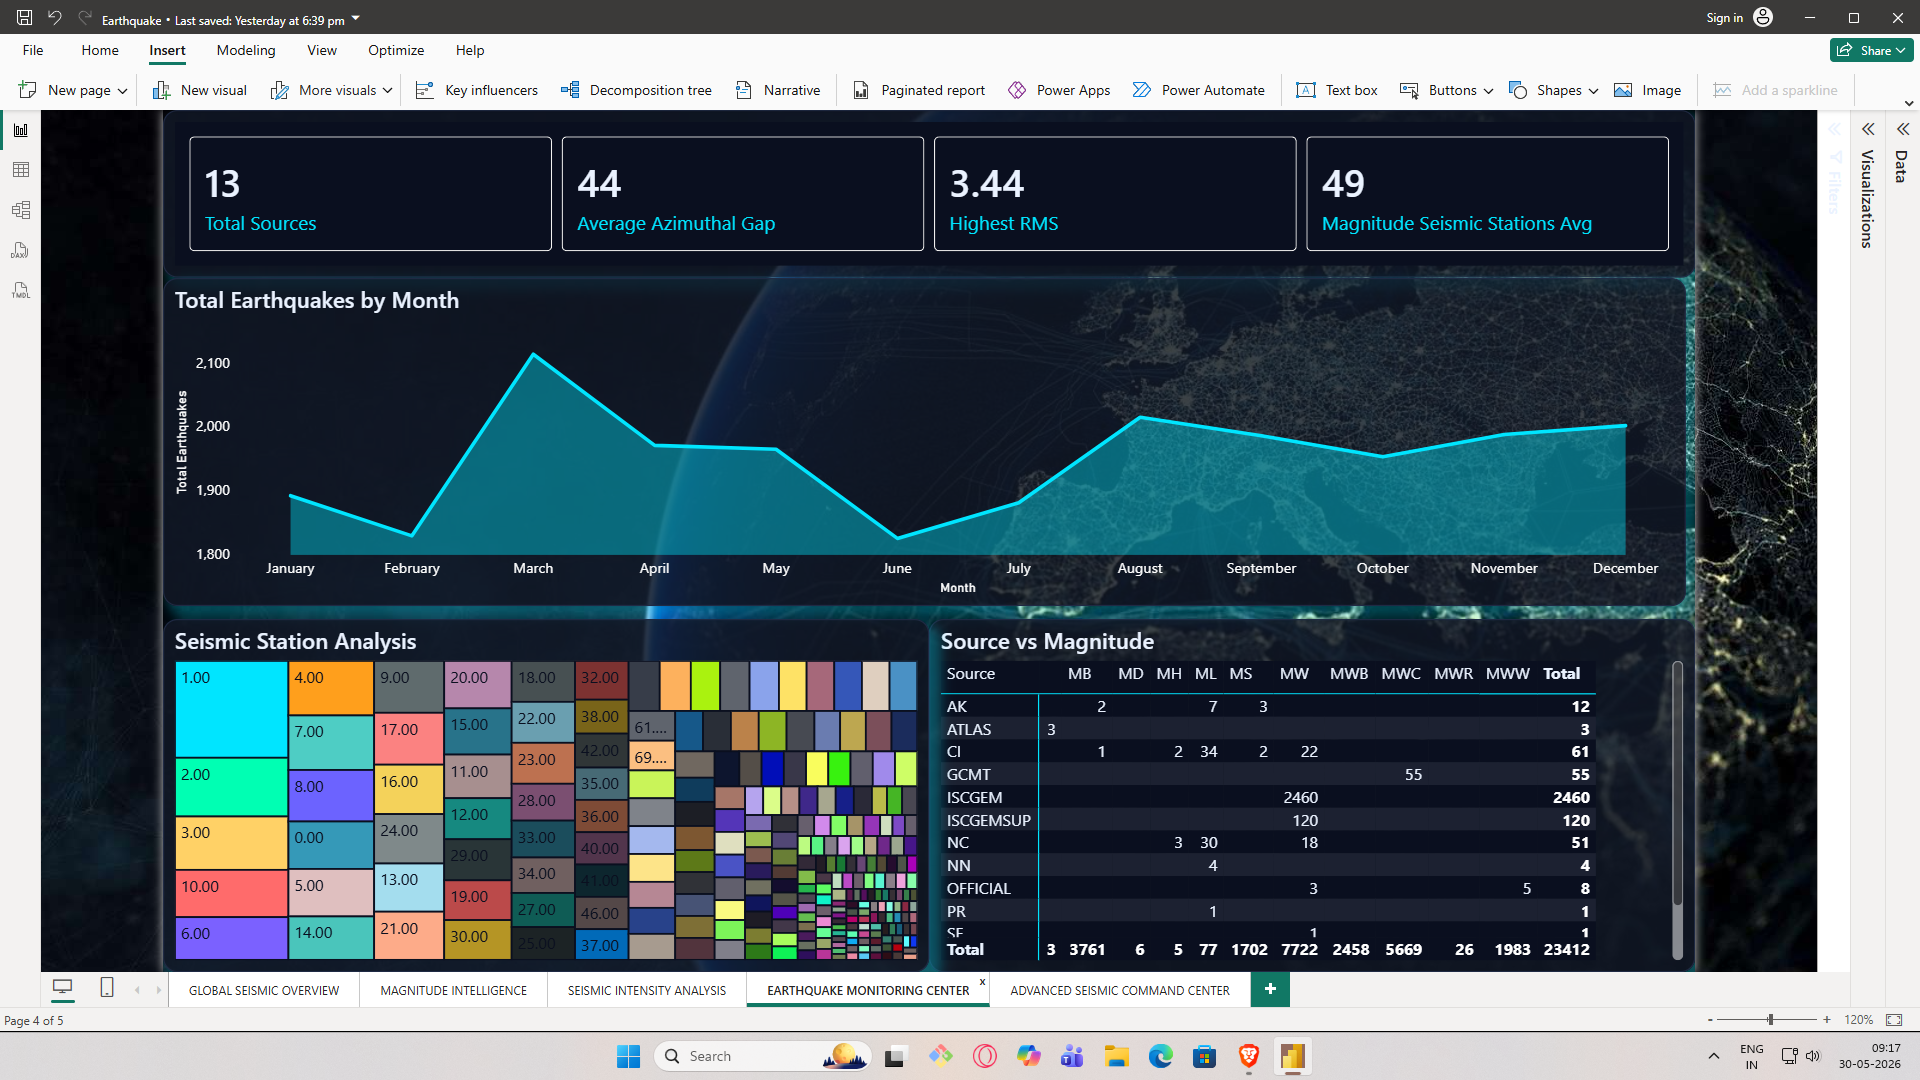

This screenshot's page, from the dashboard's own definition file:
{"tool":"powerbi","page":{"name":"EARTHQUAKE MONITORING CENTER","canvas":[1280,720],"ordinal":3},"visuals":[{"type":"cardVisual","fields":{"Data":["earthquake.Total Sources","earthquake.Average Azimuthal Gap","earthquake.Highest RMS","earthquake.Magnitude Seismic Stations Avg"]},"box":[0,0,1280,140.1],"z":0},{"type":"areaChart","fields":{"Category":["earthquake.Date.Variation.Date Hierarchy.Month","earthquake.Date.Variation.Date Hierarchy.Day"],"Y":["earthquake.Total Earthquakes"]},"box":[0,140.1,1272.2,274.3],"z":1000},{"type":"pivotTable","title":"Source vs Magnitude","fields":{"Rows":["earthquake.Source"],"Columns":["earthquake.Magnitude Type"],"Values":["earthquake.Total Earthquakes"]},"box":[640,425,640,294.7],"z":2000},{"type":"treemap","title":"Seismic Station Analysis","fields":{"Values":["earthquake.Total Earthquakes"],"Group":["earthquake.Magnitude Seismic Stations"]},"box":[0,425,640,294.7],"z":3000}]}

Visuals, with their boxes on the page's 1280x720 design canvas (x1, y1, x2, y2). These are canvas units, not pixel positions in the 1920x1080 screenshot, which may show the page scaled, cropped or inside an application window:
cardVisual - earthquake.Total Sources x earthquake.Average Azimuthal Gap: bbox=(0, 0, 1280, 140)
areaChart - earthquake.Date.Variation.Date Hierarchy.Month x earthquake.Date.Variation.Date Hierarchy.Day: bbox=(0, 140, 1272, 414)
"Source vs Magnitude" pivotTable: bbox=(640, 425, 1280, 720)
"Seismic Station Analysis" treemap: bbox=(0, 425, 640, 720)
